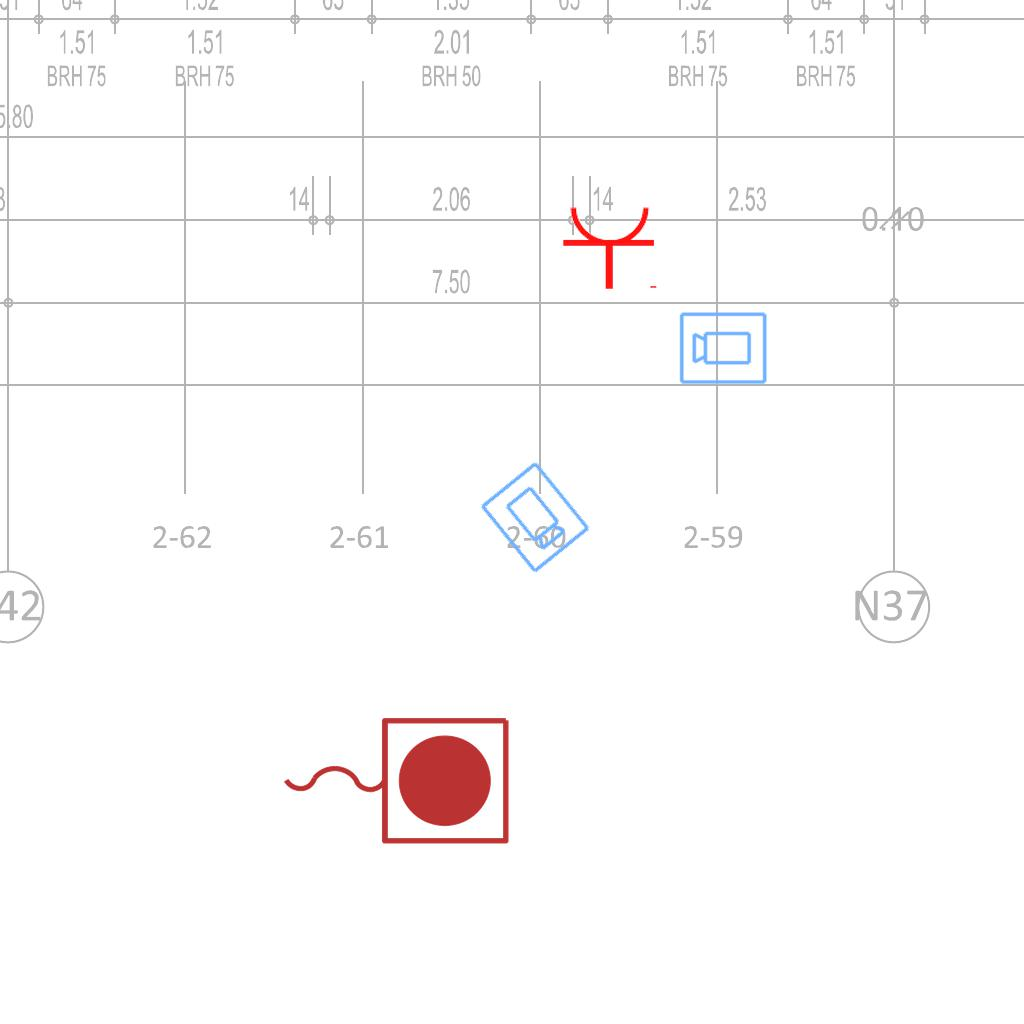KFO_Kamera_mit_Festobjektiv: (475, 457, 594, 578), (678, 309, 769, 386)
Schukosteckdose_einfach: (561, 204, 661, 291)
Zugtaster: (273, 707, 517, 851)
